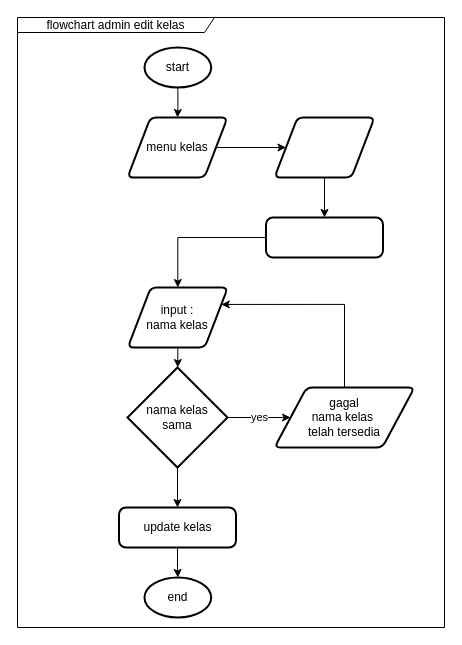
The diagram is 462 pixels wide and 645 high, and some of its shapes have lost their labels. Here are the shapes that lost their labels. From the top down, the centre of each, then its label:
At (324,147): "edit kelas".
At (324,237): "get id_kelas".
